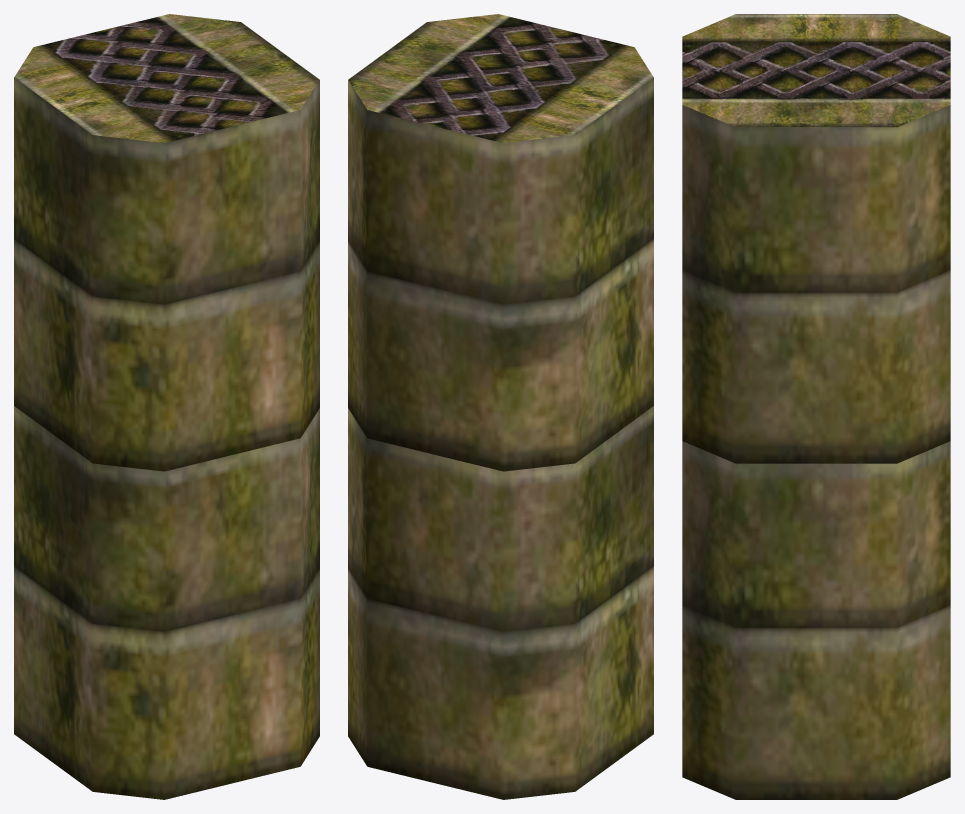
The model's file is OVERHILL_A_01_LINE387.fbx.
The picture shows the model from 3 angles, left to right: view 1: azimuth 30°, elevation 25°; view 2: azimuth 150°, elevation 25°; view 3: azimuth 270°, elevation 25°; orthographic projection. The views are drawn at different scales.
Parts seen in each view (by area): view 1: OVERHILL_A_01_LINE387; view 2: OVERHILL_A_01_LINE387; view 3: OVERHILL_A_01_LINE387.
Part boxes in pixels (left/top/right/bottom): OVERHILL_A_01_LINE387: left=14, top=14, right=319, bottom=799; OVERHILL_A_01_LINE387: left=348, top=14, right=653, bottom=799; OVERHILL_A_01_LINE387: left=682, top=14, right=950, bottom=799.
Size of the model in its own units: 9604 by 26550 by 9604.
1 material, 1 textured.
